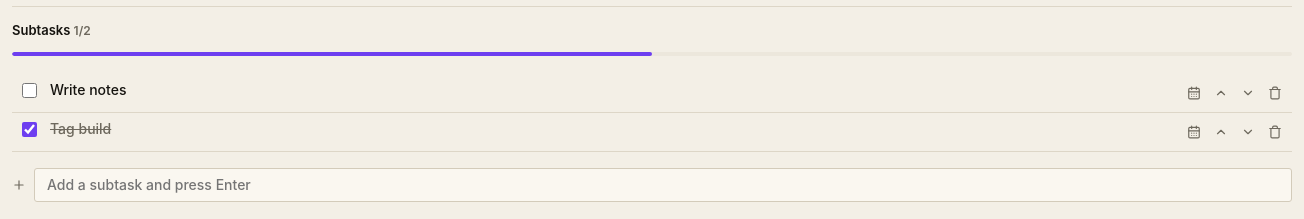
Subtasks › shows progress and ticks a subtask instantly
Expected: the text "1/2" is shown, [74,23,91,38]
What coordinates should you click on to do the following:
click the checkbox named "Mark \"Write notes\" done"
I would click on:
 (30, 90)
Its box is [22,83,37,98].
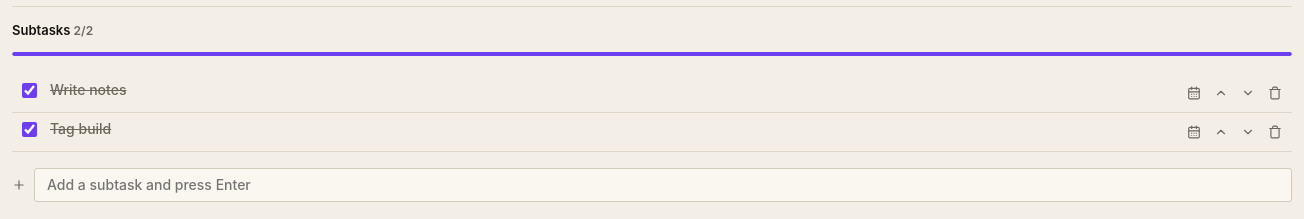
Now the text "2/2" is shown, box [74,23,93,38]
